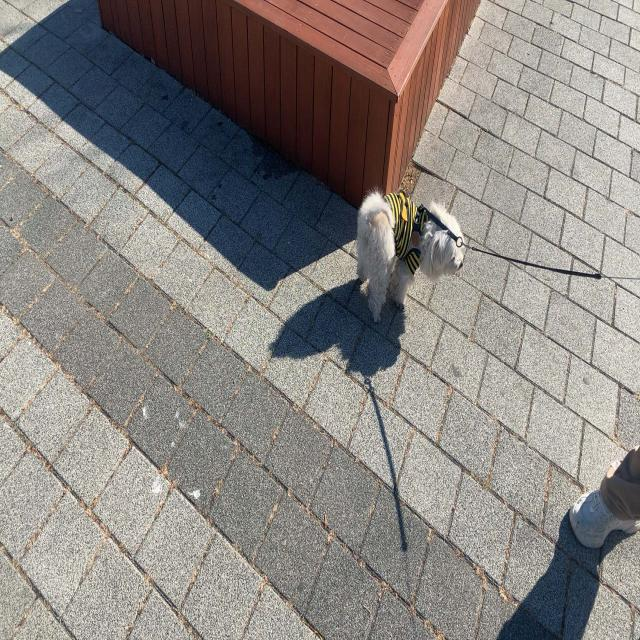Dog: (357, 187, 465, 325)
